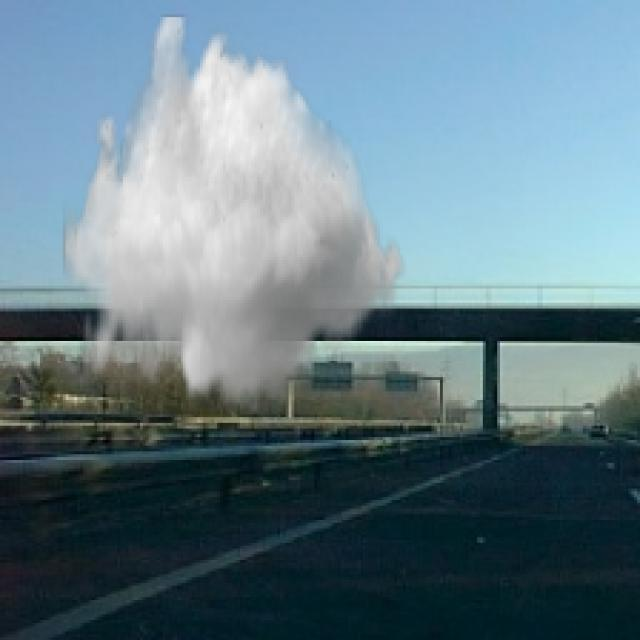Smoke: (62, 14, 412, 414)
